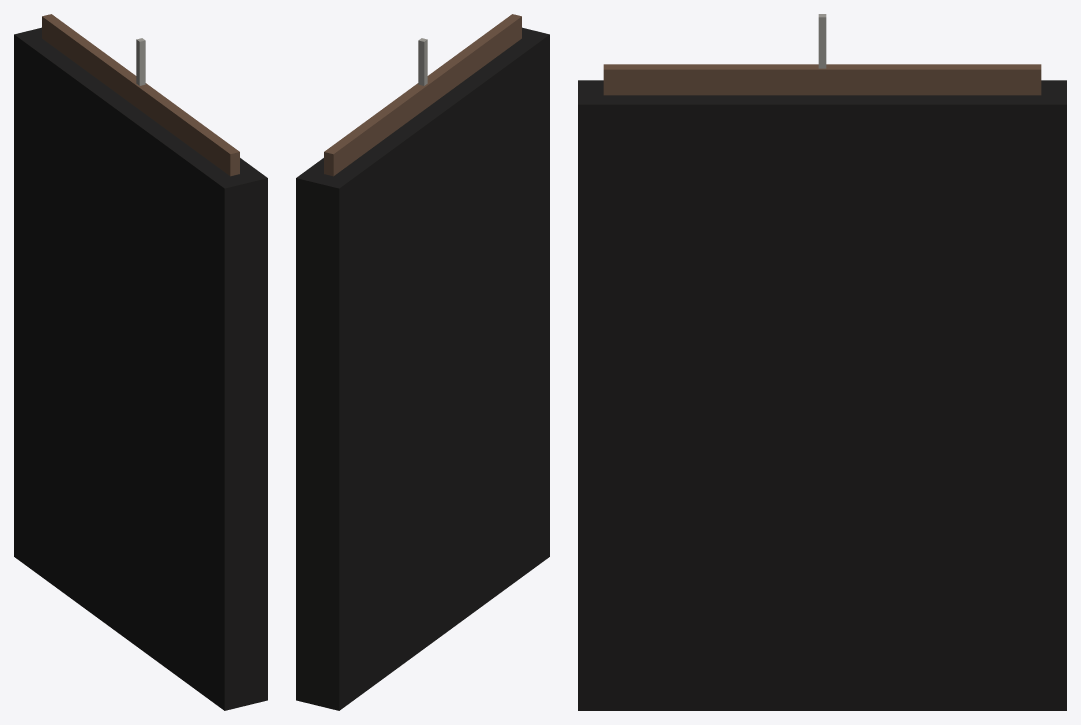
The model's file is jeans-hung.glb.
3 views of the same model, side by side, from view 1: azimuth 30°, elevation 25°; view 2: azimuth 150°, elevation 25°; view 3: azimuth 270°, elevation 25° (orthographic). The views are drawn at different scales.
Parts seen in each view (by area): view 1: rubber, wood, brushed; view 2: rubber, wood, brushed; view 3: rubber, wood.
Part boxes in pixels (bbox=[...]): rubber: bbox=[14, 27, 267, 710]; wood: bbox=[42, 14, 239, 176]; brushed: bbox=[136, 38, 145, 85]; rubber: bbox=[296, 27, 549, 710]; wood: bbox=[324, 14, 521, 176]; brushed: bbox=[418, 38, 427, 85]; rubber: bbox=[578, 80, 1066, 710]; wood: bbox=[603, 64, 1041, 95].
Size of the model in its own units: 0.045 by 0.586 by 0.38.
